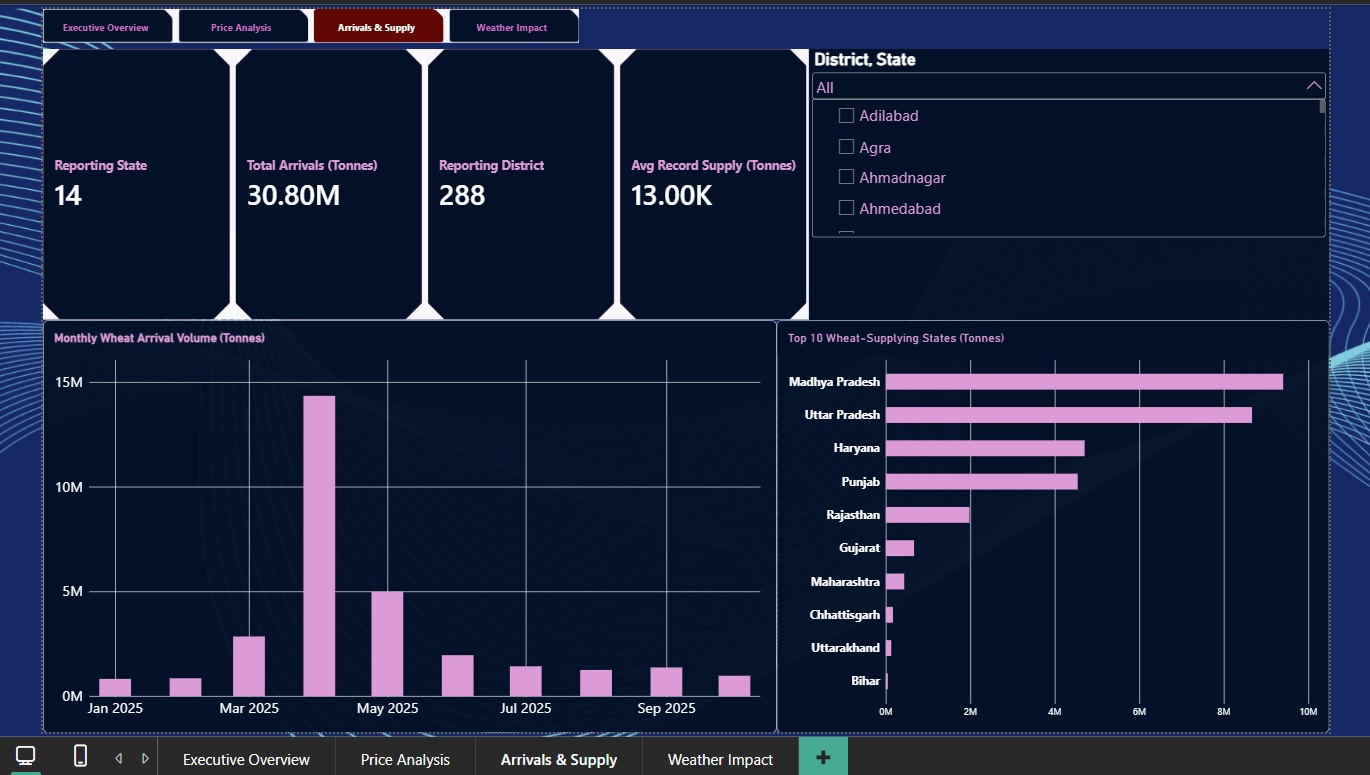

Layout of this report page (visuals, bound fields, positions):
{"tool":"powerbi","page":{"name":"Arrivals & Supply","canvas":[1920,1080],"ordinal":2},"visuals":[{"type":"cardVisual","fields":{"Data":["Count(monthly_wheat_arrivals.State)","Sum(monthly_wheat_arrivals.arrival_quantity_tonnes)1","Count(monthly_wheat_arrivals.District)","Avg(monthly_wheat_arrivals.arrival_quantity_tonnes)"]},"box":[0,60,1143,404.2],"z":0},{"type":"slicer","fields":{"Values":["monthly_wheat_arrivals.District","monthly_wheat_arrivals.State"]},"box":[1143.8,59.7,776.2,404.9],"z":1000},{"type":"clusteredColumnChart","title":"Monthly Wheat Arrival Volume (Tonnes)","fields":{"Category":["monthly_wheat_arrivals.month"],"Y":["Sum(monthly_wheat_arrivals.arrival_quantity_tonnes)"]},"box":[0,464.6,1095.3,615.8],"z":2000},{"type":"clusteredBarChart","title":"Top 10 Wheat-Supplying States (Tonnes)","fields":{"Category":["monthly_wheat_arrivals.State"],"Y":["Sum(monthly_wheat_arrivals.arrival_quantity_tonnes)"]},"box":[1095.3,464.6,824.7,615.8],"z":3000},{"type":"pageNavigator","box":[0,0,800,50],"z":3001}]}

Visuals, with their boxes on the page's 1920x1080 design canvas (x1, y1, x2, y2). These are canvas units, not pixel positions in the 1370x775 screenshot, which may show the page scaled, cropped or inside an application window:
cardVisual - Count(monthly_wheat_arrivals.State) x Sum(monthly_wheat_arrivals.arrival_quantity_tonnes)1: pyautogui.locateOnScreen(0, 60, 1143, 464)
slicer - monthly_wheat_arrivals.District x monthly_wheat_arrivals.State: pyautogui.locateOnScreen(1144, 60, 1920, 465)
"Monthly Wheat Arrival Volume (Tonnes)" clusteredColumnChart: pyautogui.locateOnScreen(0, 465, 1095, 1080)
"Top 10 Wheat-Supplying States (Tonnes)" clusteredBarChart: pyautogui.locateOnScreen(1095, 465, 1920, 1080)
pageNavigator: pyautogui.locateOnScreen(0, 0, 800, 50)
